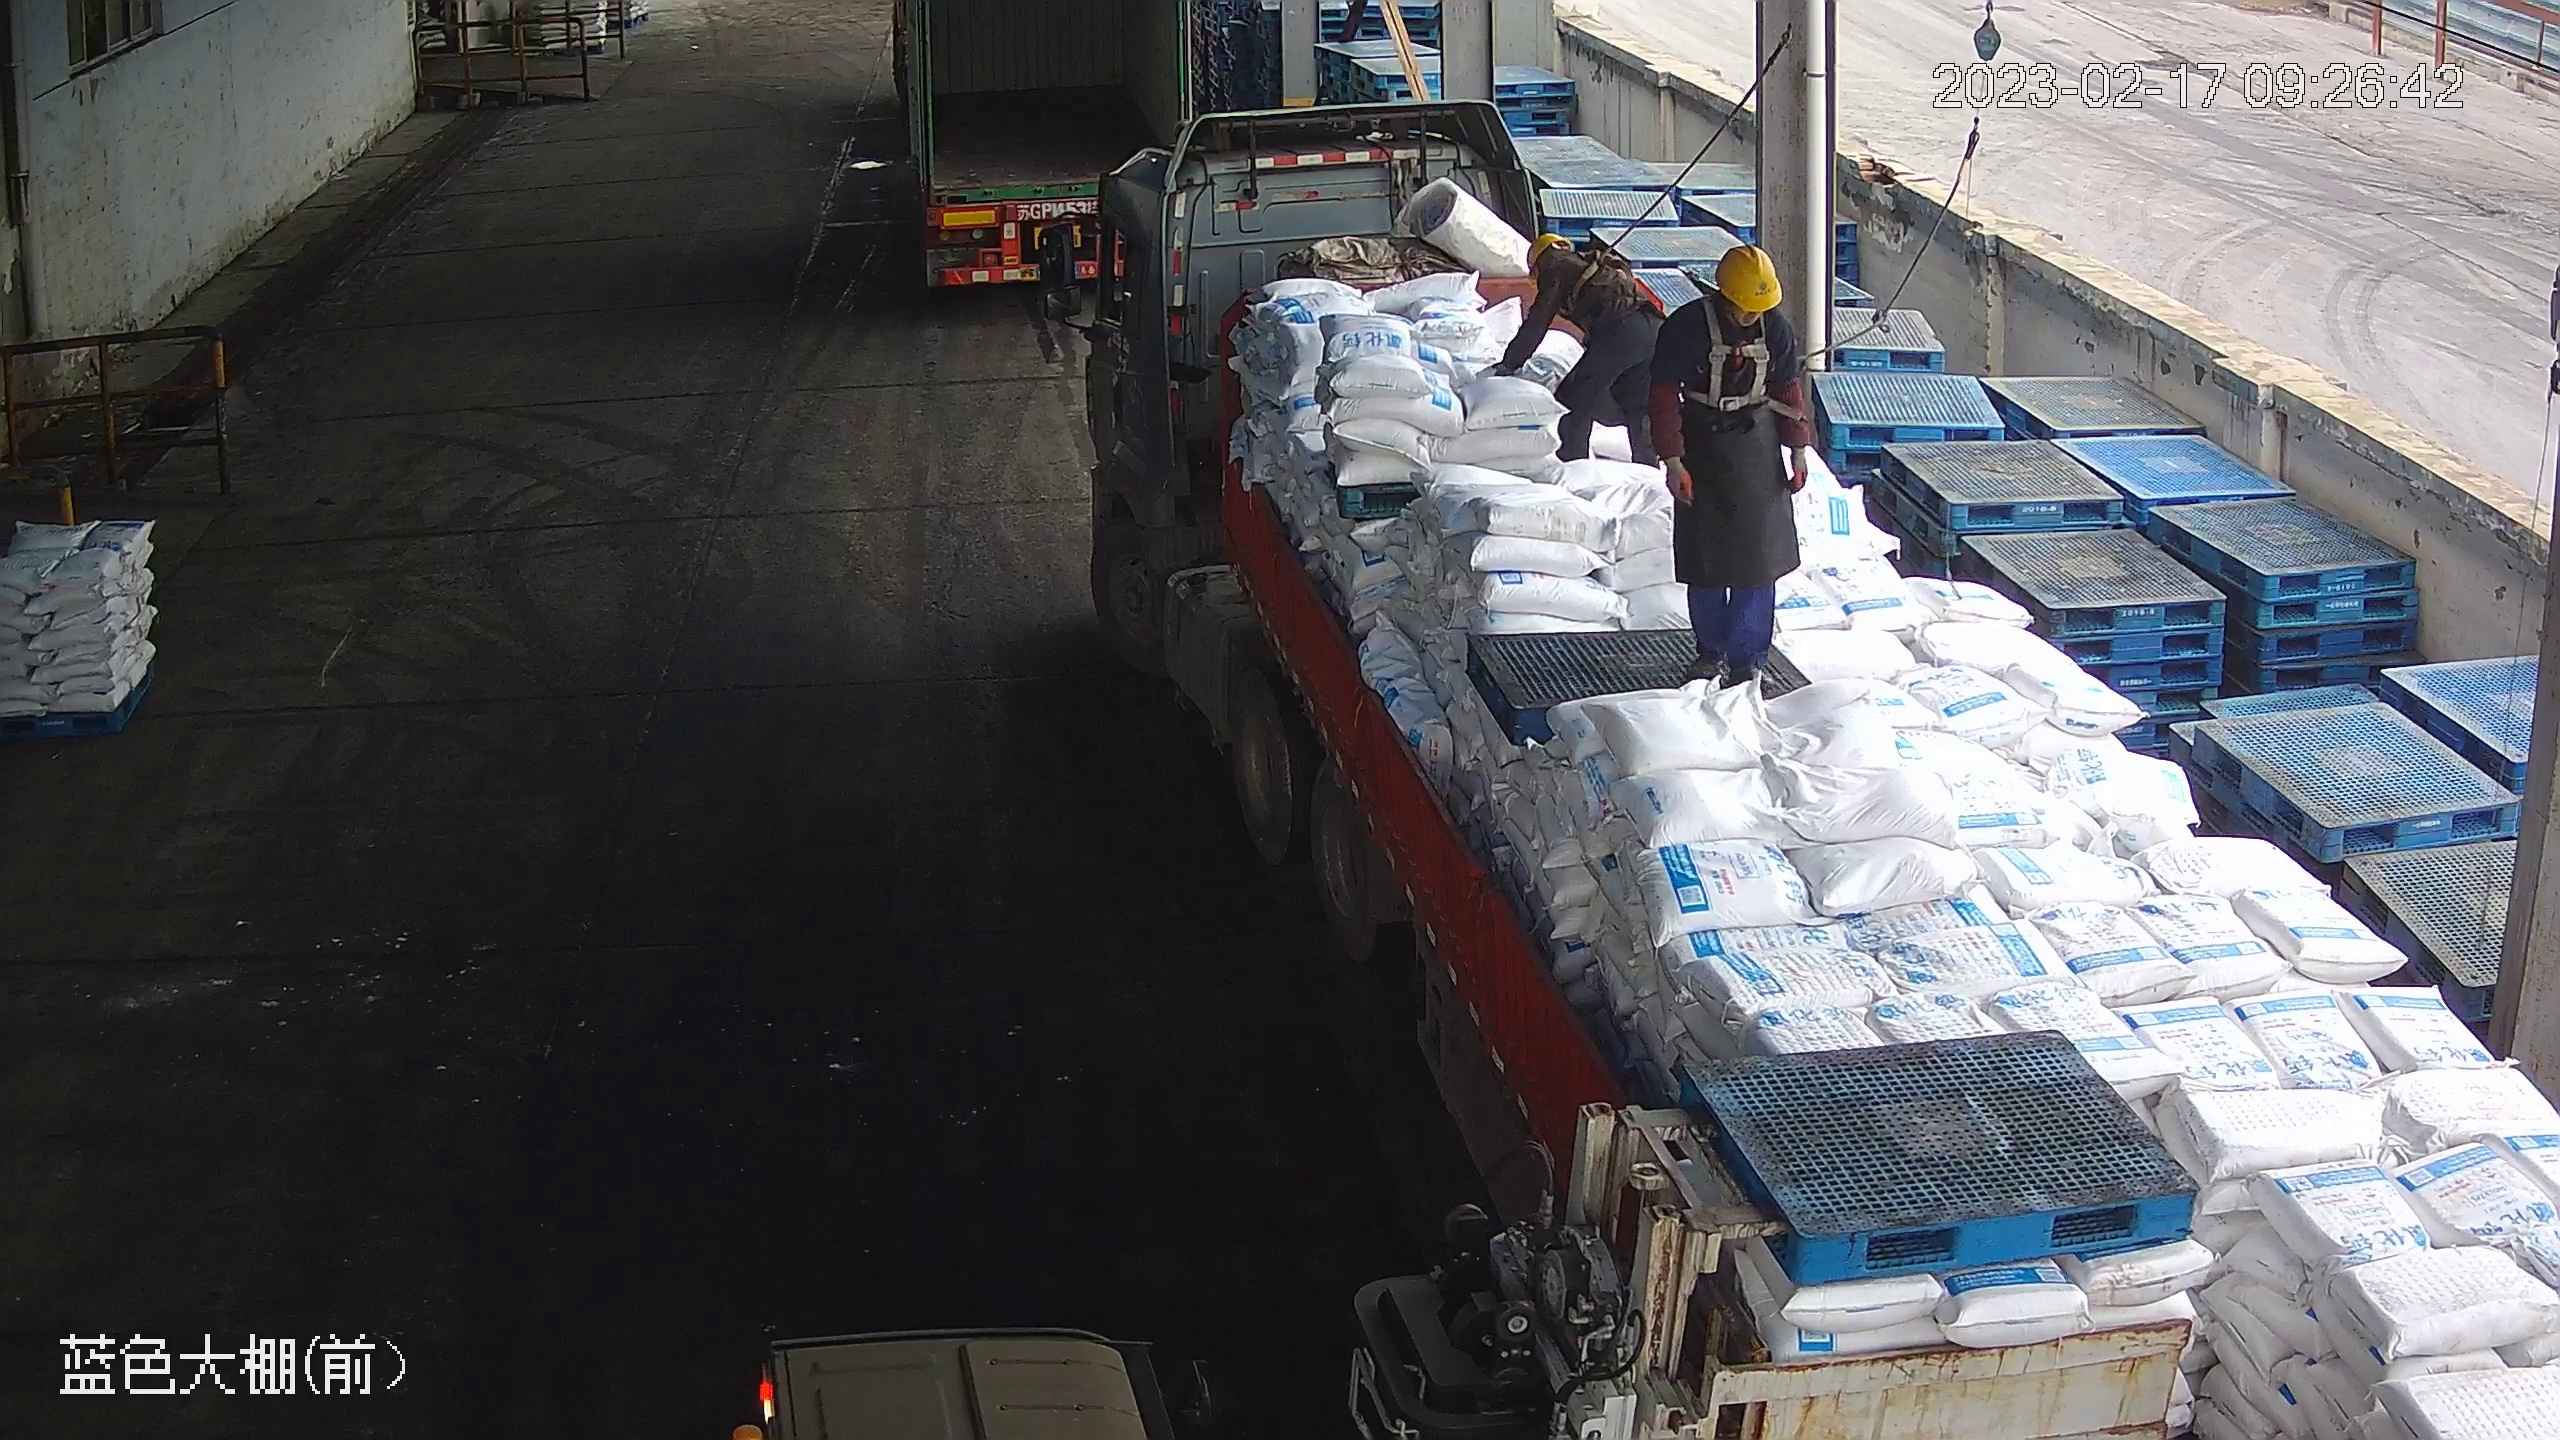belt: (1692, 295, 1784, 412), (1565, 240, 1638, 301)
head: (1669, 243, 1800, 351), (1515, 235, 1629, 310)
helmet: (1716, 242, 1781, 314), (1523, 228, 1569, 271)
people: (1652, 240, 1821, 696), (1494, 225, 1666, 471)
truck: (1051, 91, 2554, 1440), (884, 2, 1191, 293)
